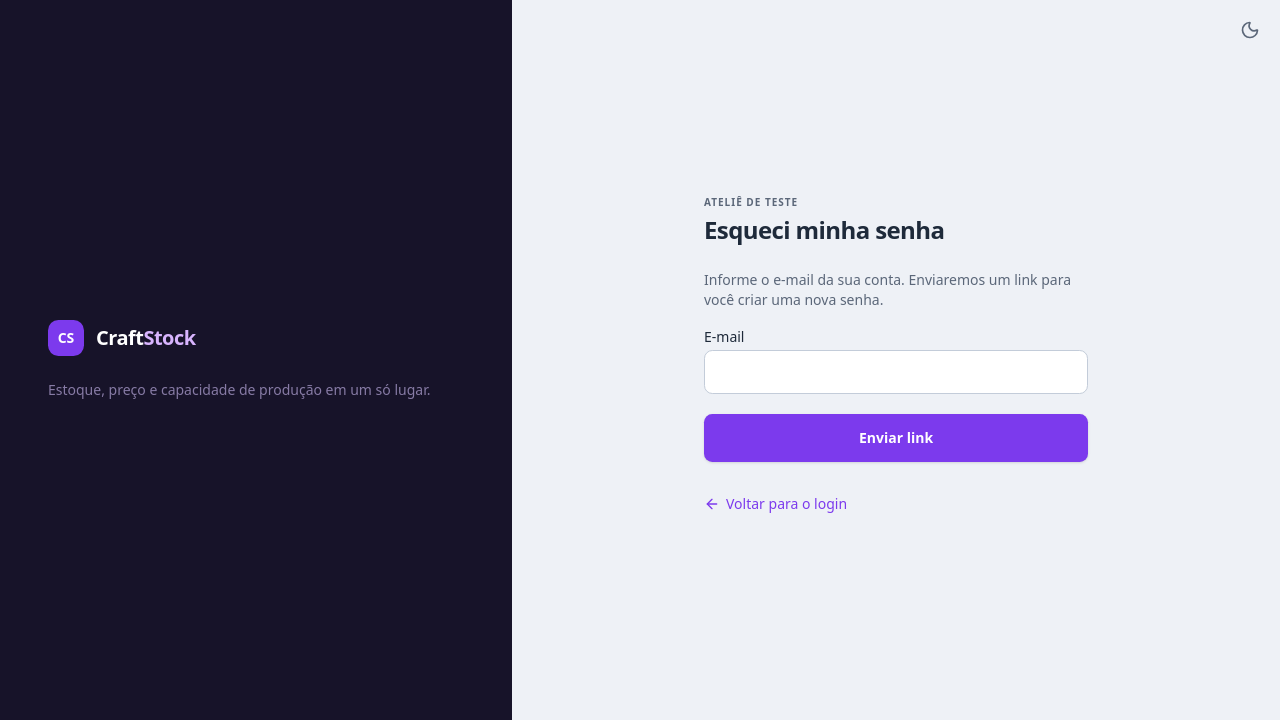
asking for the link › sends the e-mail, trimmed, and says that a link was sent if there is an account
Step 1. Type "  ana@exemplo.com.br " into the field labelled "E-mail" → {"x": 896, "y": 372}, box [704, 350, 1088, 394]
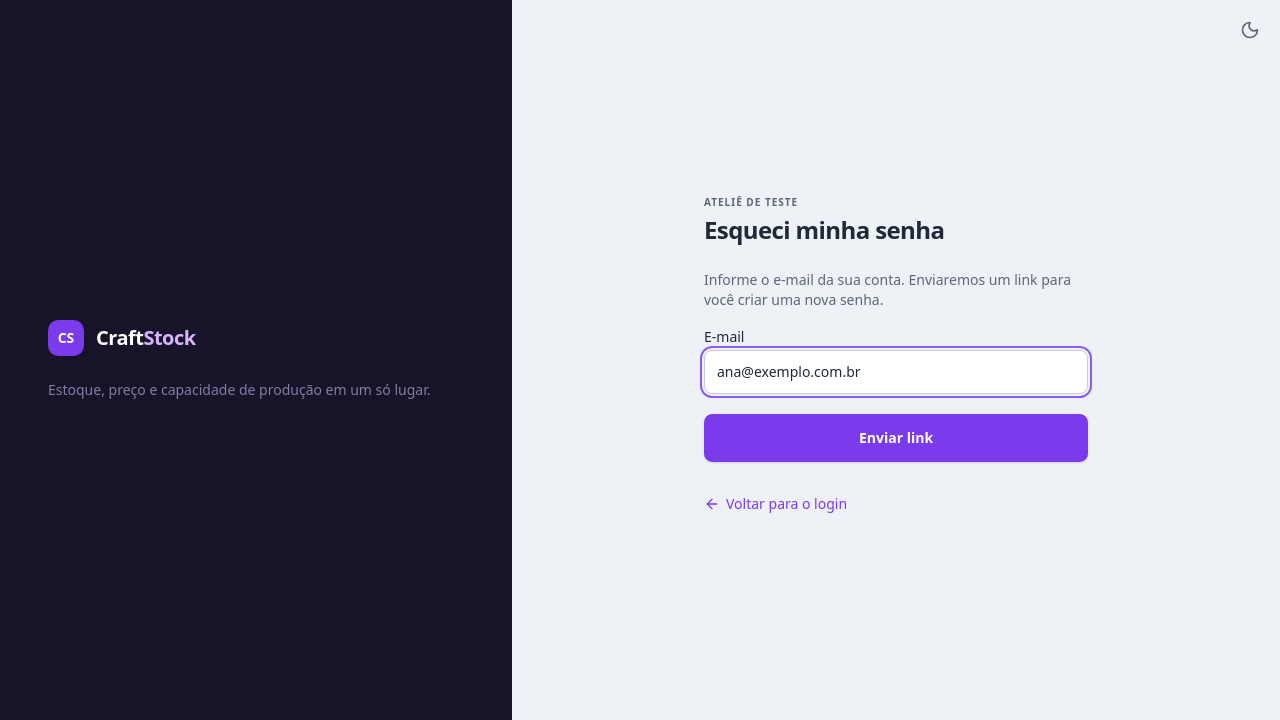
Step 2. Click the button "Enviar link" → {"x": 896, "y": 438}, box [704, 414, 1088, 462]
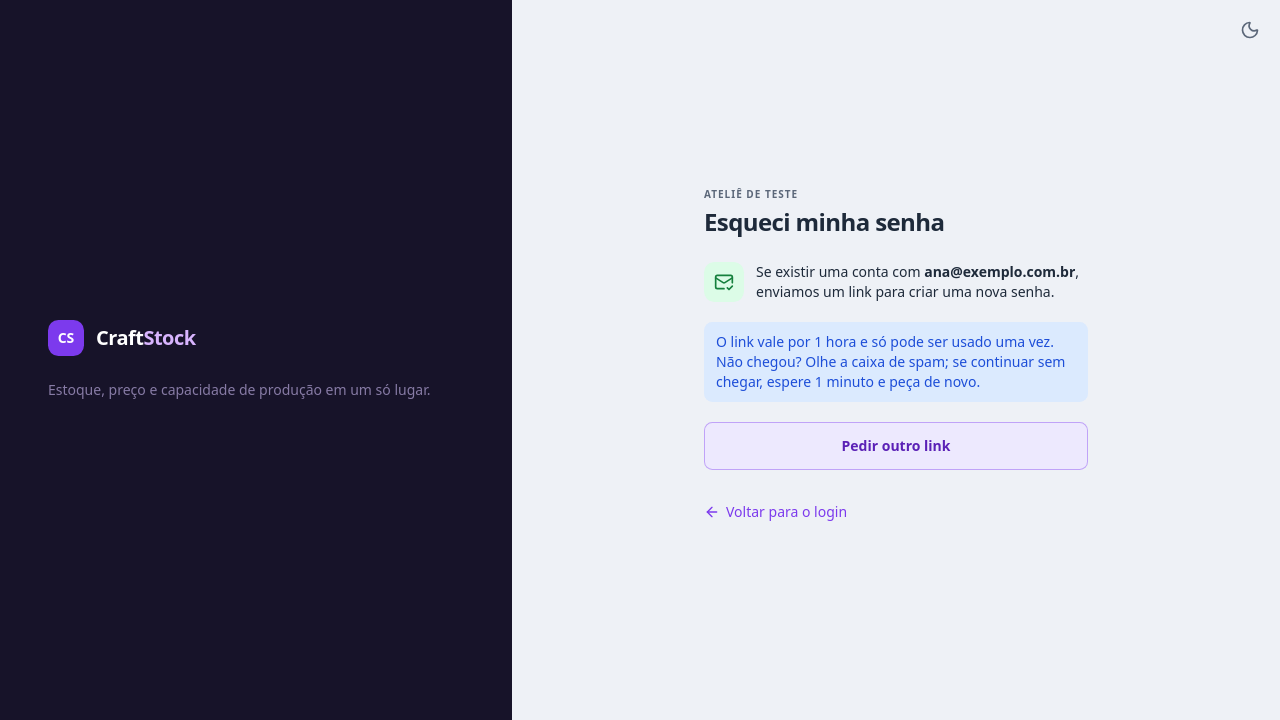
Expected: the message shows "Se existir uma conta com ana@exemplo.com.br, enviamos um link para criar uma nova senha.", [756, 262, 1088, 302]
Expected: the text "O link vale por 1 hora e só pode ser usado uma vez" is shown, [716, 332, 1066, 390]
